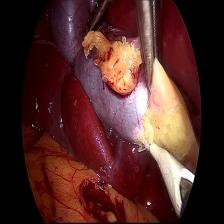Grasper: (132, 0, 160, 89), (85, 0, 114, 38)
Hook: (136, 139, 184, 202)
